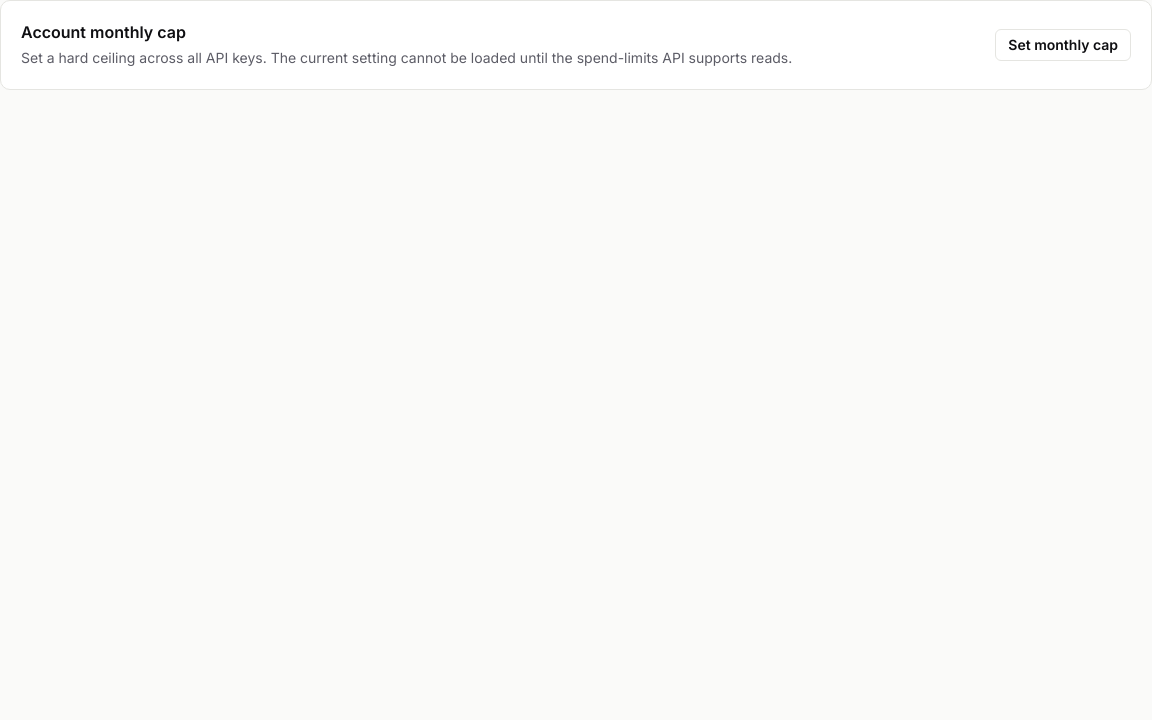
Test: AccountSpendLimit › clears selected alert thresholds when the account cap is removed
Later steps or results of the test are not shown.
Click the button "Set monthly cap" at x=1063, y=45, box 995,29 -> 1131,61
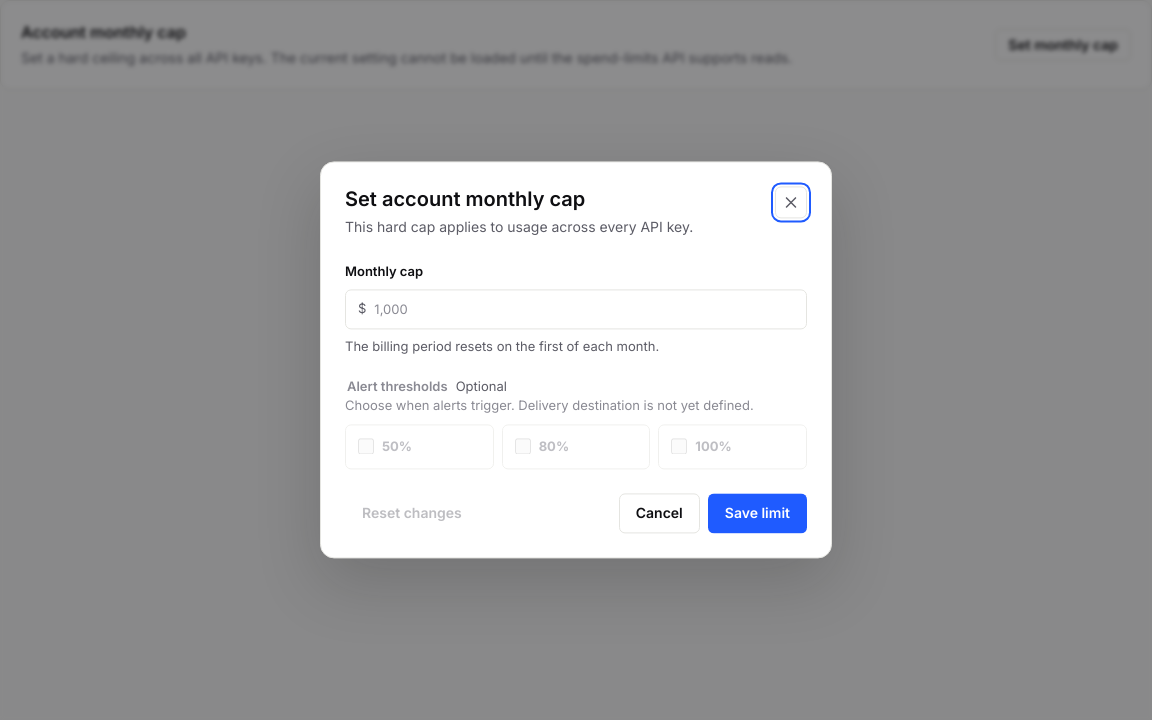
Type "1000" into the field labelled "Monthly cap" at x=586, y=310, box 366,291 -> 806,329
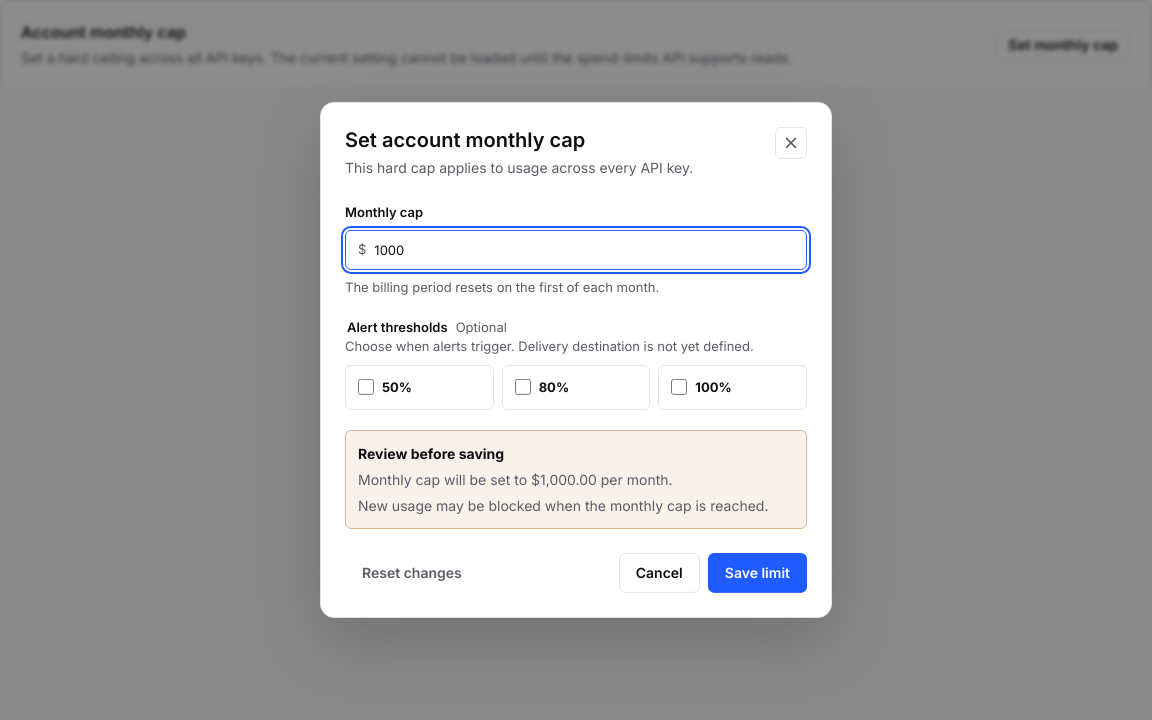
Click the checkbox labelled "50%" at x=366, y=387, box 358,379 -> 374,395
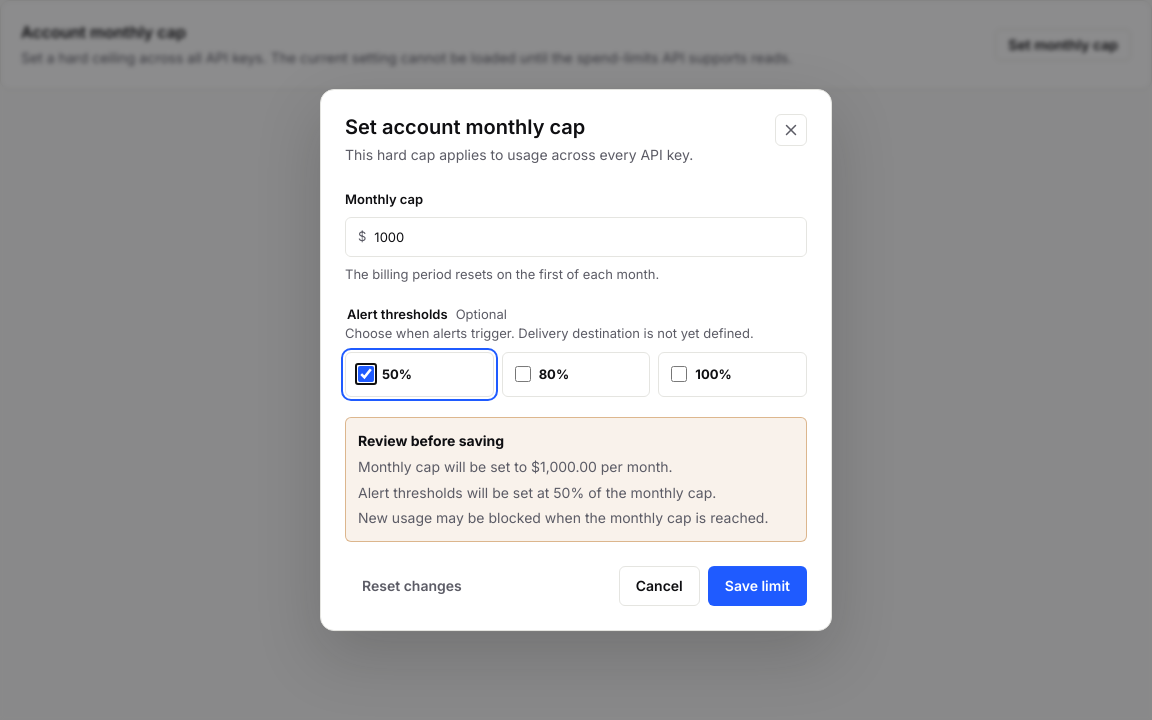
Result: the checkbox labelled "50%" is checked at 358,366 -> 374,382
Clear the field labelled "Monthly cap" at x=586, y=237, box 366,218 -> 806,256
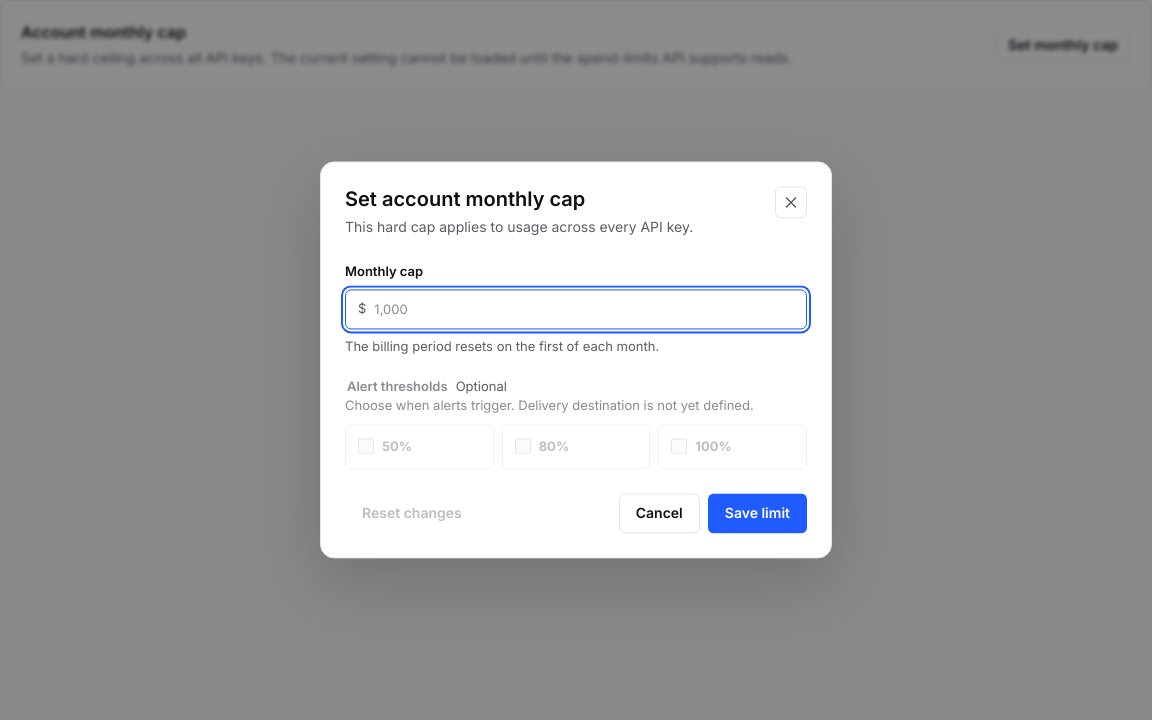
Result: the checkbox labelled "50%" is not checked at 358,439 -> 374,455
Result: the checkbox labelled "50%" is disabled at 358,439 -> 374,455
